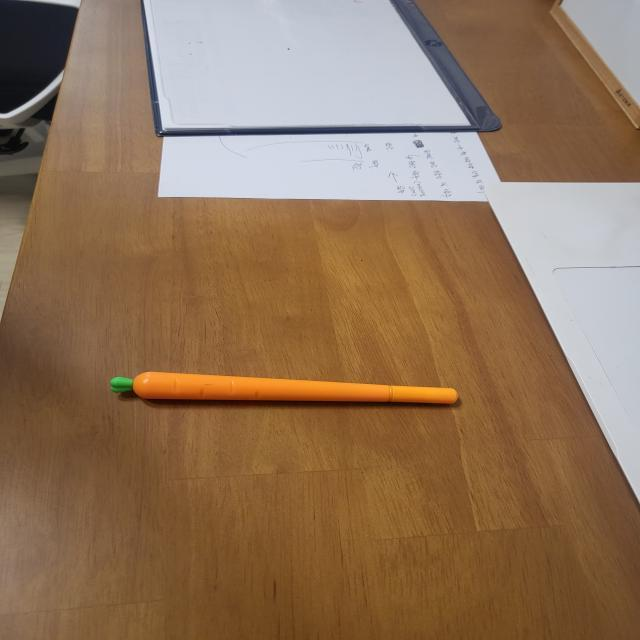carrot: (130, 367, 460, 412)
